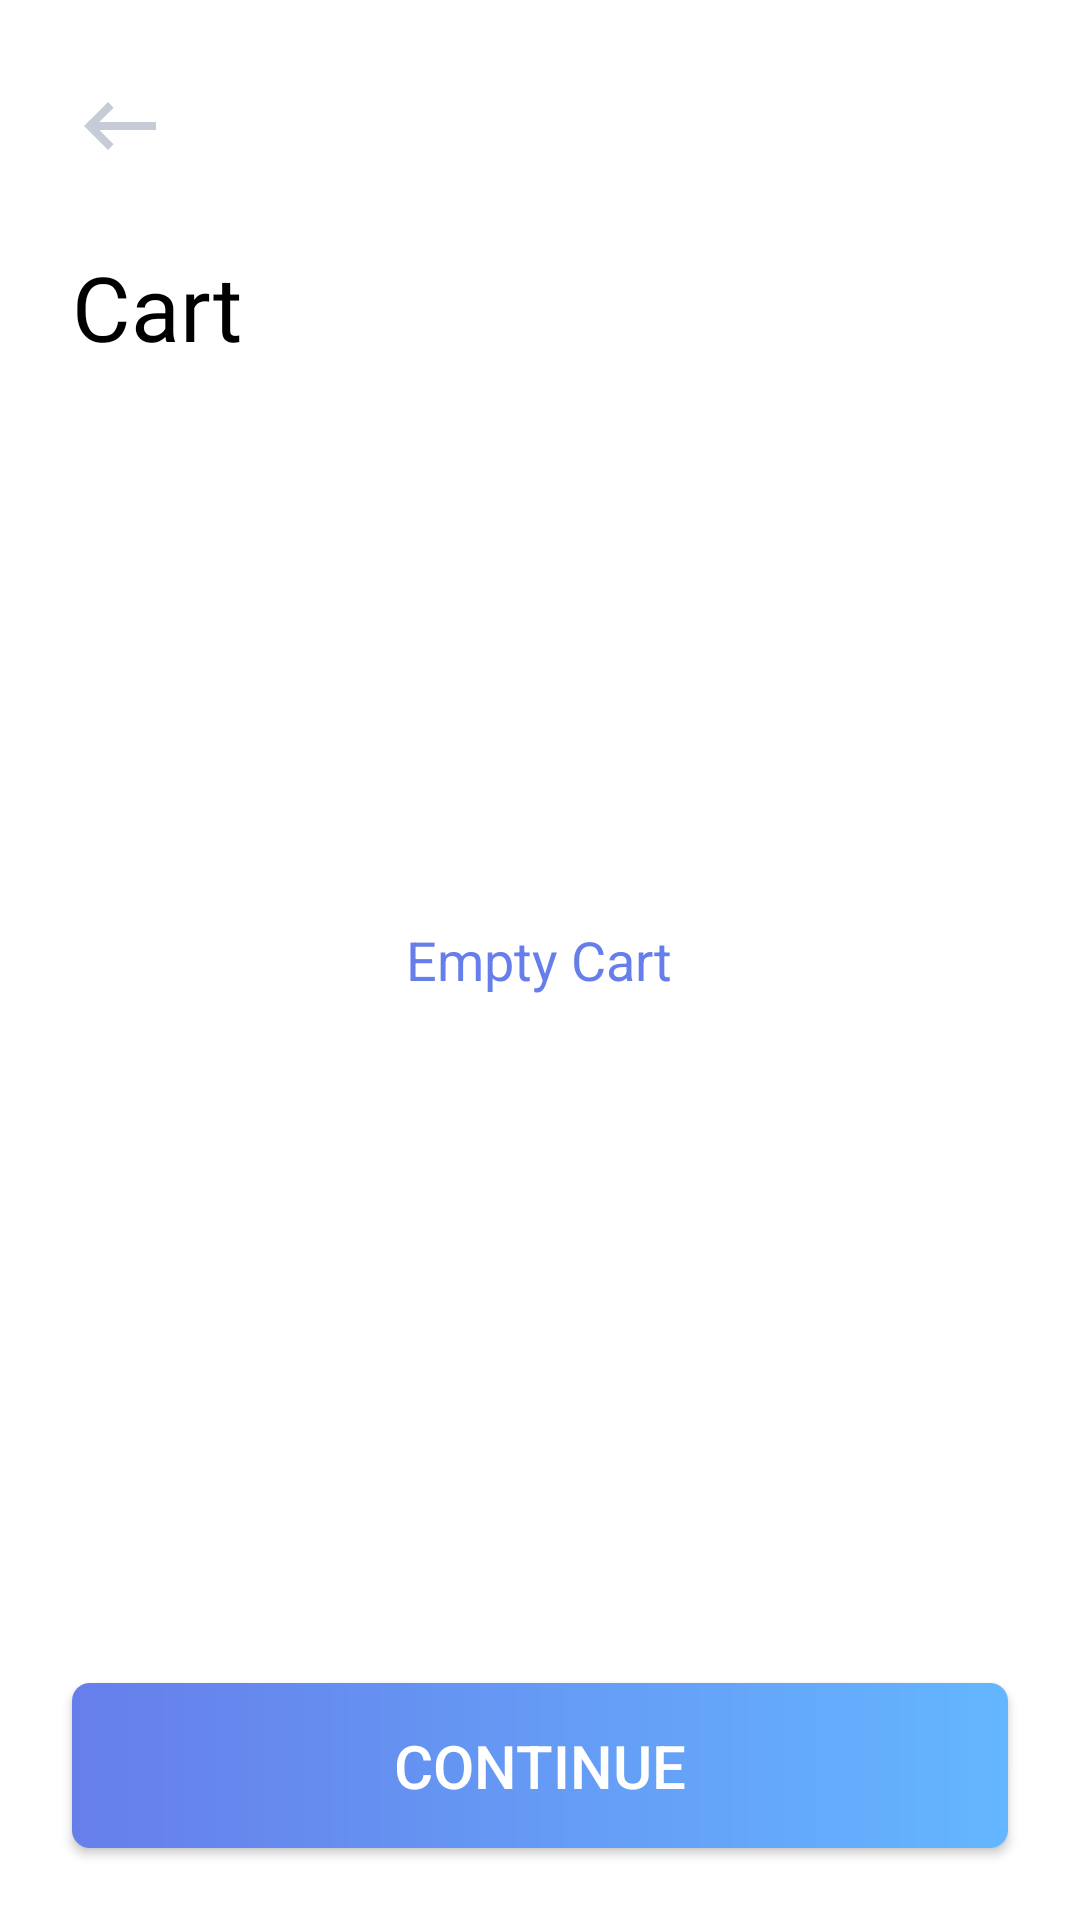

Icon click points for this 1080px×1920px phone screenshot, format (x=x, y=y):
keyboard backspace: (x=120, y=126)
